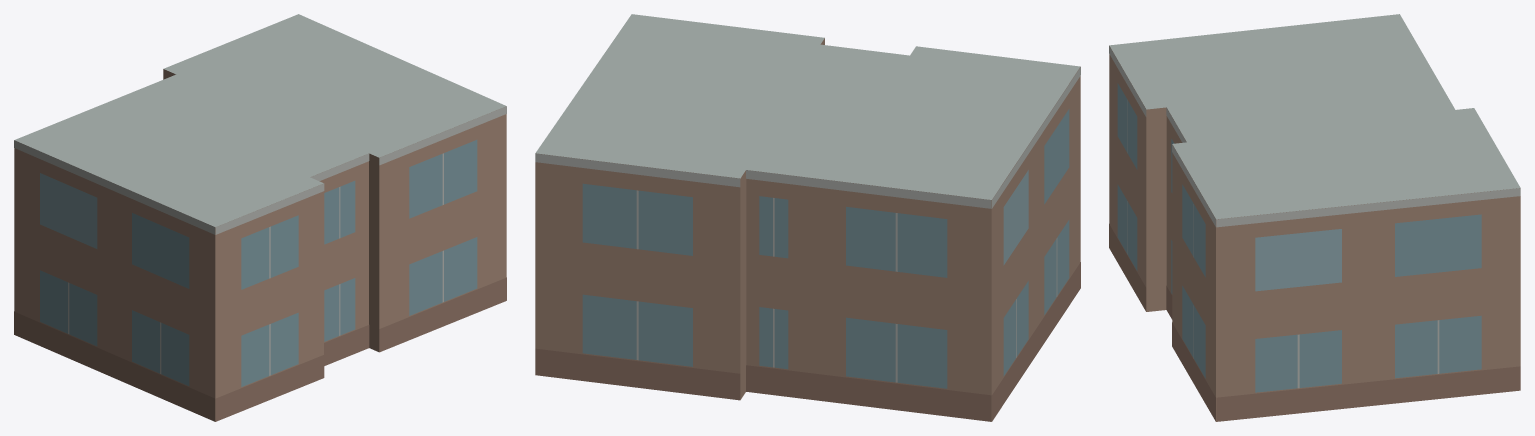
File: survey-upis-32927651.glb
The picture shows the model from 3 angles, left to right: view 1: azimuth 30°, elevation 25°; view 2: azimuth 150°, elevation 25°; view 3: azimuth 270°, elevation 25°; orthographic projection. The views are drawn at different scales.
Parts seen in each view (by area): view 1: survey-upis-32927651.tmp; view 2: survey-upis-32927651.tmp; view 3: survey-upis-32927651.tmp.
Part boxes in pixels (x1=…): survey-upis-32927651.tmp: x1=14, y1=14, x2=506, y2=421; survey-upis-32927651.tmp: x1=535, y1=14, x2=1080, y2=421; survey-upis-32927651.tmp: x1=1109, y1=14, x2=1520, y2=421.
Size of the model in its own units: 13.27 by 6.1 by 11.24.
